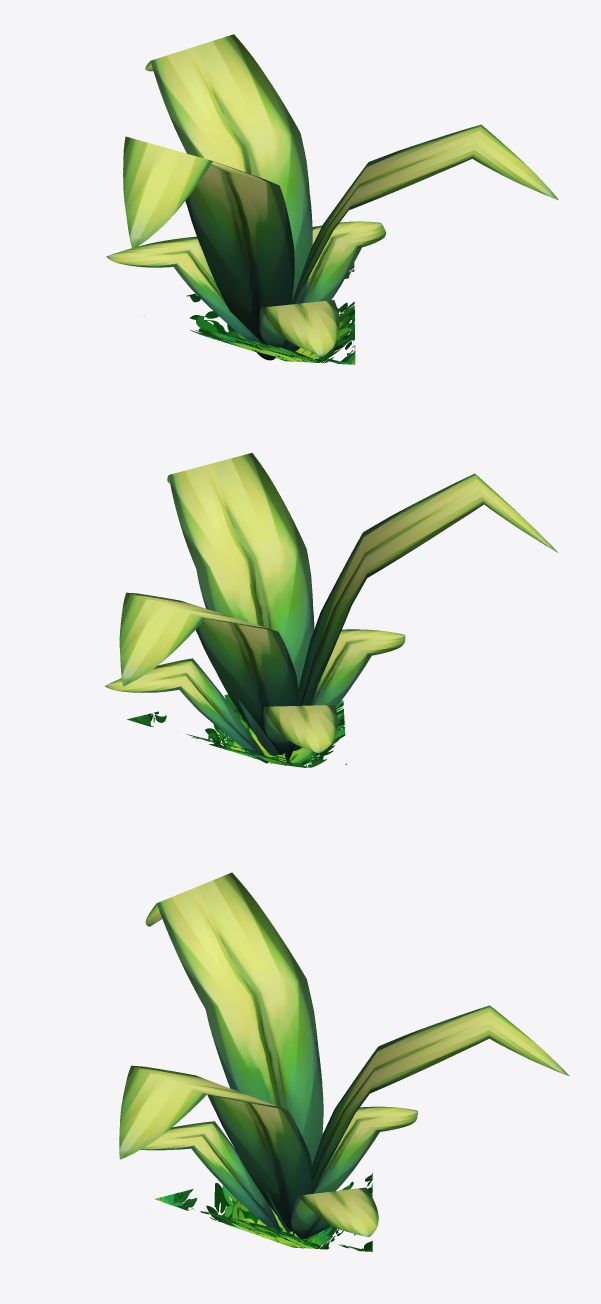
Rendered from TallGrass.fbx.
The picture shows the model from 3 angles, top to bottom: view 1: azimuth 30°, elevation 25°; view 2: azimuth 150°, elevation 25°; view 3: azimuth 270°, elevation 25°; orthographic projection. The views are drawn at different scales.
Parts seen in each view (by area): view 1: Plane; view 2: Plane; view 3: Plane.
Boxes of the visible parts, left/top/right/bottom form: Plane: left=106, top=34, right=558, bottom=364; Plane: left=105, top=453, right=558, bottom=767; Plane: left=119, top=872, right=569, bottom=1251.
Bounding box in the file's own units: 539 × 280 × 498.
